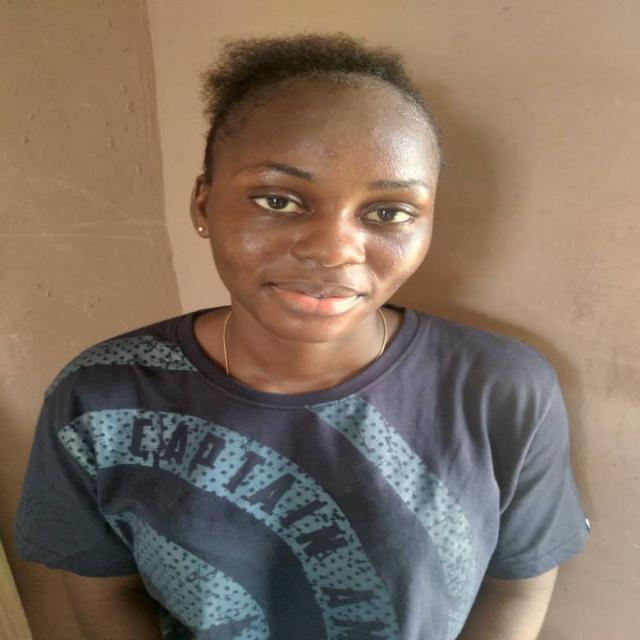happy: (183, 42, 449, 346)
